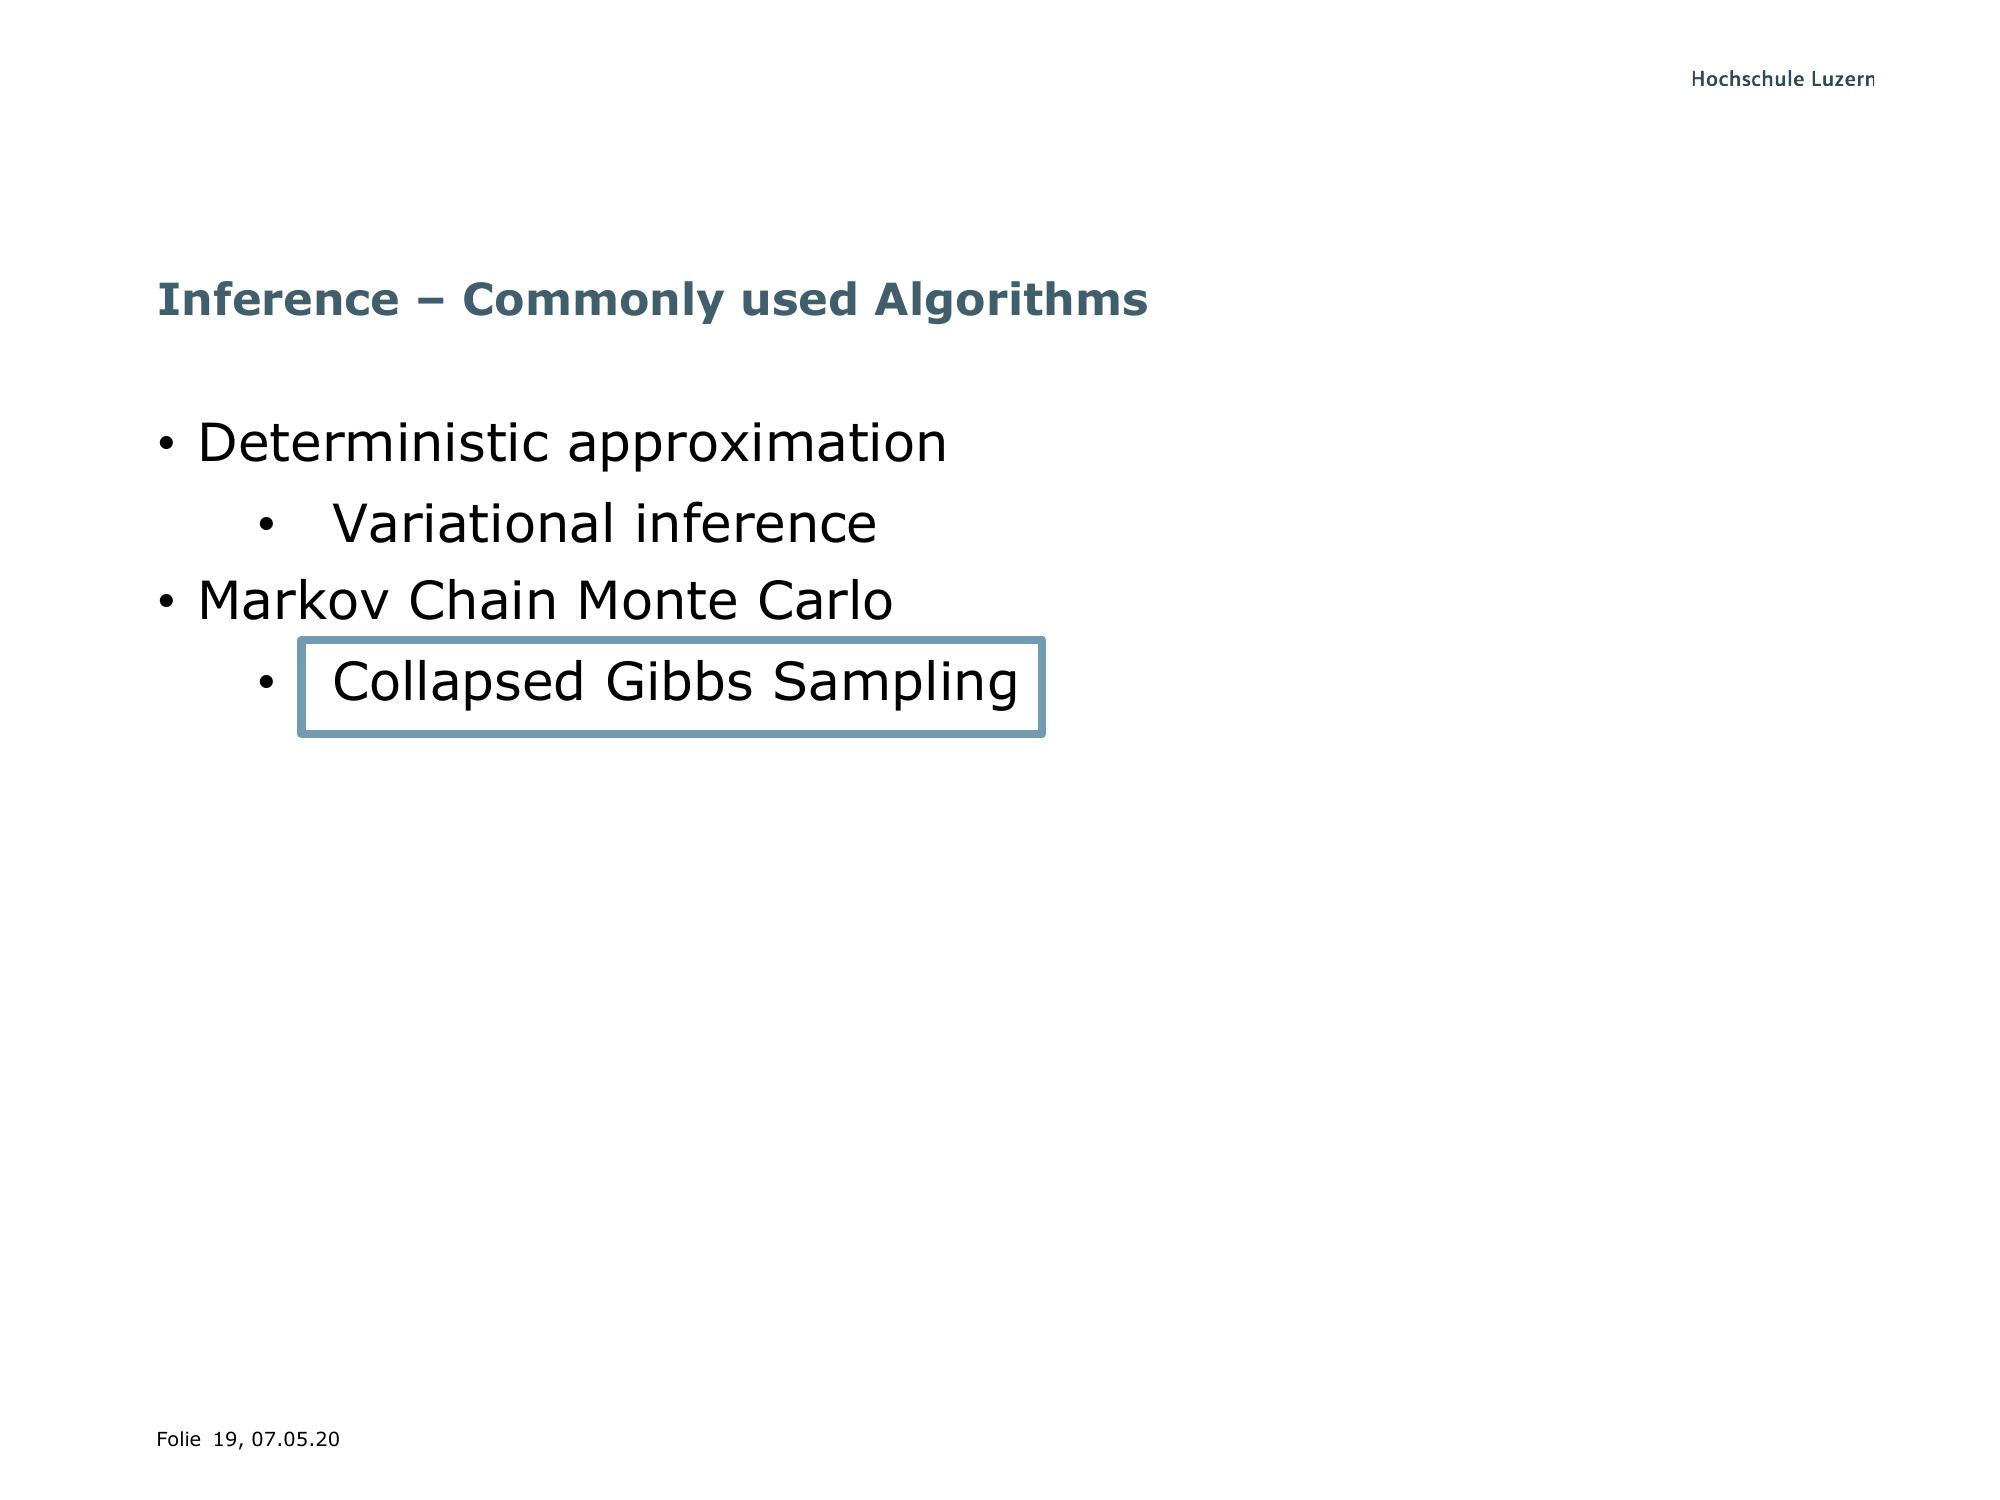Title: (142, 251, 1157, 339)
